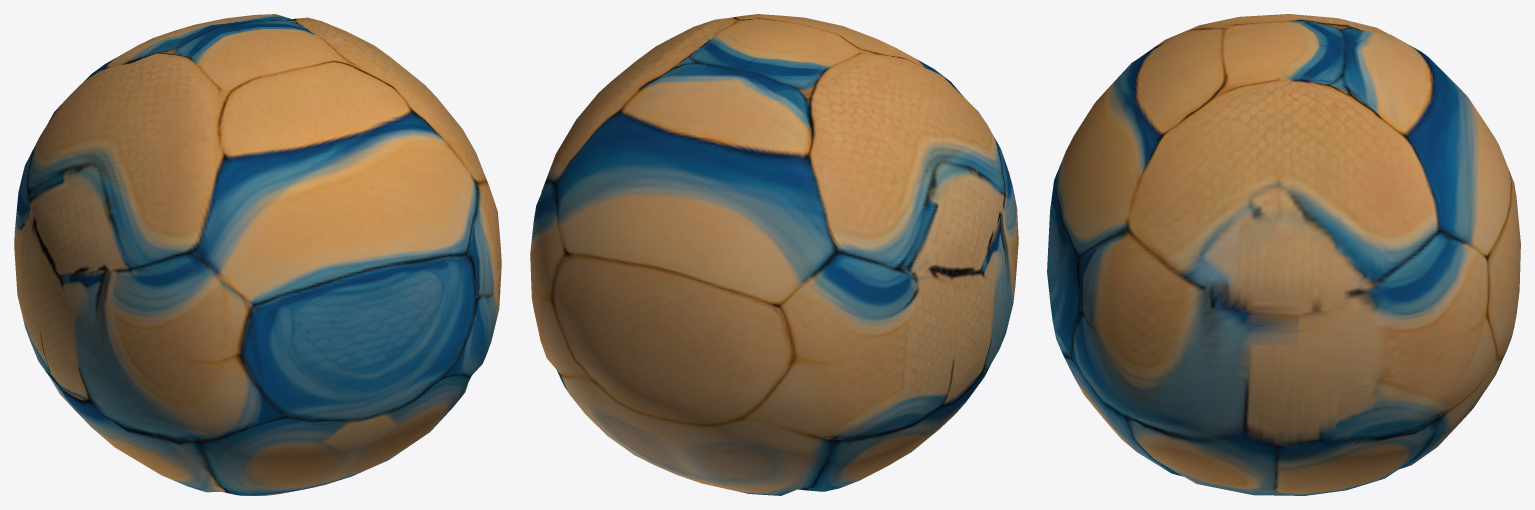
Rendered from 08-6493342-Stylized-Leather-Soccer-Ball-model-pack.glb.
3 views of the same model, side by side, from view 1: azimuth 30°, elevation 25°; view 2: azimuth 150°, elevation 25°; view 3: azimuth 270°, elevation 25° (orthographic).
Visible parts, largest first — view 1: Retopo_neural_node_e156a8ee-965c-48e3-8692-111dce150b2b; view 2: Retopo_neural_node_e156a8ee-965c-48e3-8692-111dce150b2b; view 3: Retopo_neural_node_e156a8ee-965c-48e3-8692-111dce150b2b.
Boxes of the visible parts, left/top/right/bottom form: Retopo_neural_node_e156a8ee-965c-48e3-8692-111dce150b2b: left=14, top=14, right=501, bottom=495; Retopo_neural_node_e156a8ee-965c-48e3-8692-111dce150b2b: left=530, top=14, right=1018, bottom=495; Retopo_neural_node_e156a8ee-965c-48e3-8692-111dce150b2b: left=1047, top=14, right=1520, bottom=495.
Size of the model in its own units: 0.9455 by 0.9482 by 0.9472.
Materials: 1 (1 with a texture image).
